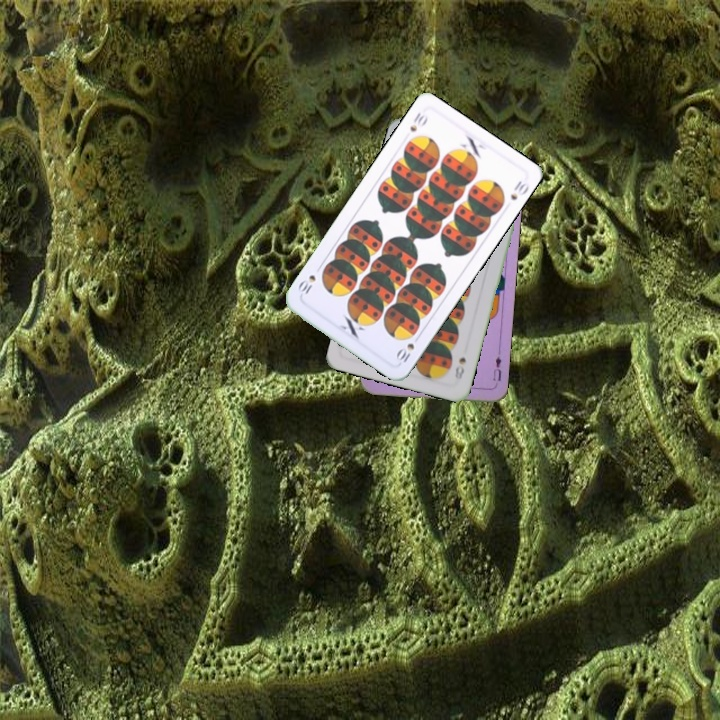EU: (489, 348, 504, 384)
S10: (392, 331, 423, 367), (406, 108, 430, 134)
S8: (451, 353, 468, 382)
